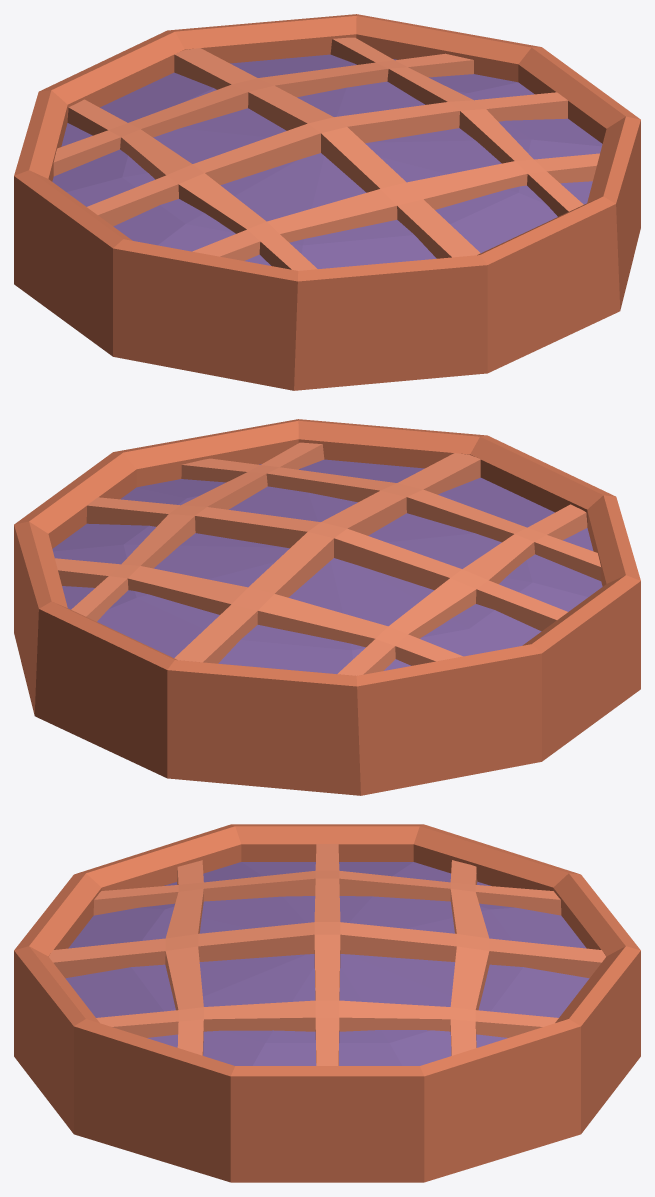
File: Pie_01.fbx
3 views of the same model, one above another, from view 1: azimuth 30°, elevation 25°; view 2: azimuth 150°, elevation 25°; view 3: azimuth 270°, elevation 25° (orthographic). The views are drawn at different scales.
Visible parts, largest first — view 1: Pie_01; view 2: Pie_01; view 3: Pie_01.
Boxes of the visible parts, left/top/right/bottom form: Pie_01: left=14, top=14, right=640, bottom=390; Pie_01: left=14, top=419, right=640, bottom=795; Pie_01: left=14, top=824, right=640, bottom=1182.
Size of the model in its own units: 25.67 by 6.08 by 26.99.
